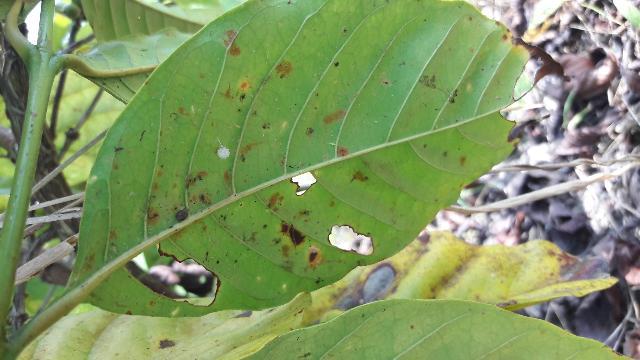red_spider_mite: (64, 0, 563, 319)
